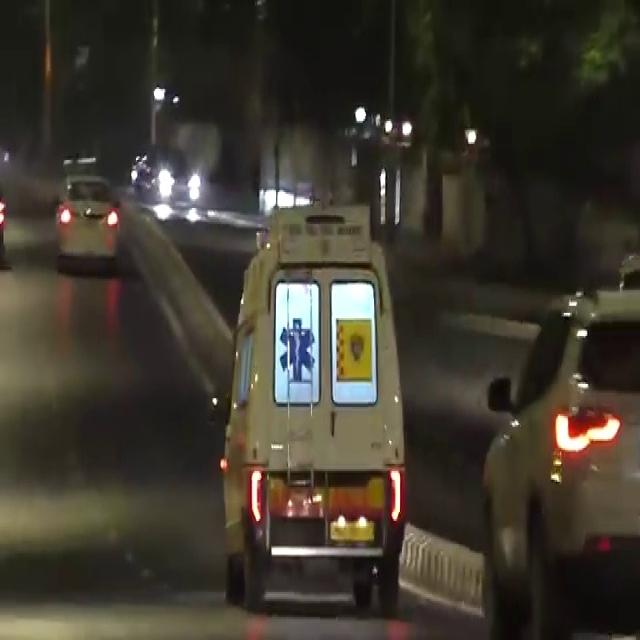ambulance: (208, 204, 410, 579)
